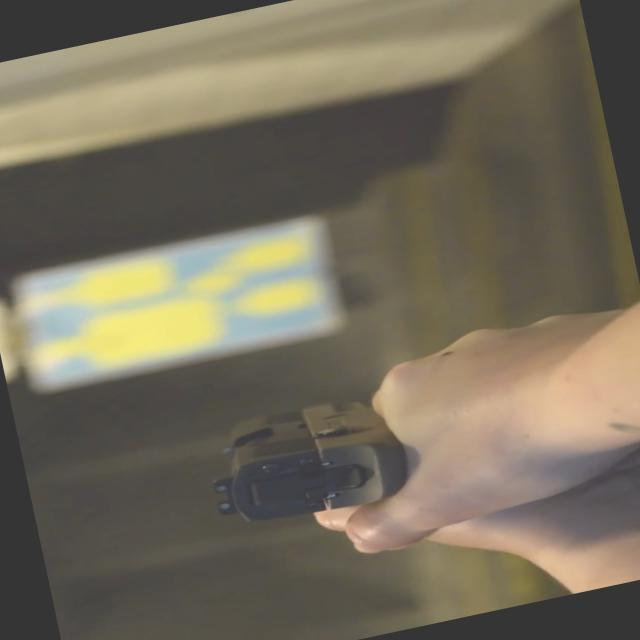handgun: (192, 338, 496, 558)
